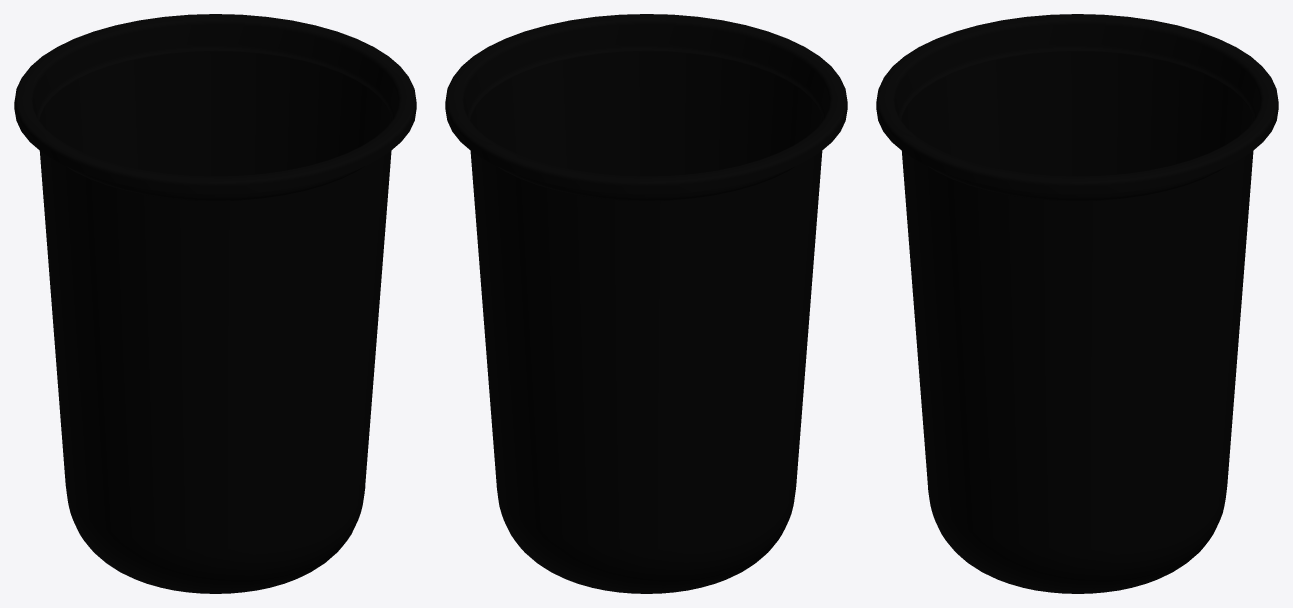
3 renders of one model, left to right at view 1: azimuth 30°, elevation 25°; view 2: azimuth 150°, elevation 25°; view 3: azimuth 270°, elevation 25°, orthographic.
Visible parts, largest first — view 1: models; view 2: models; view 3: models.
Part boxes in pixels (x1,y1,x2,y2): models: (14,14,416,593); models: (445,14,847,593); models: (876,14,1278,593).
Size of the model in its own units: 0.092 by 0.1142 by 0.092.
1 material, 1 textured.
